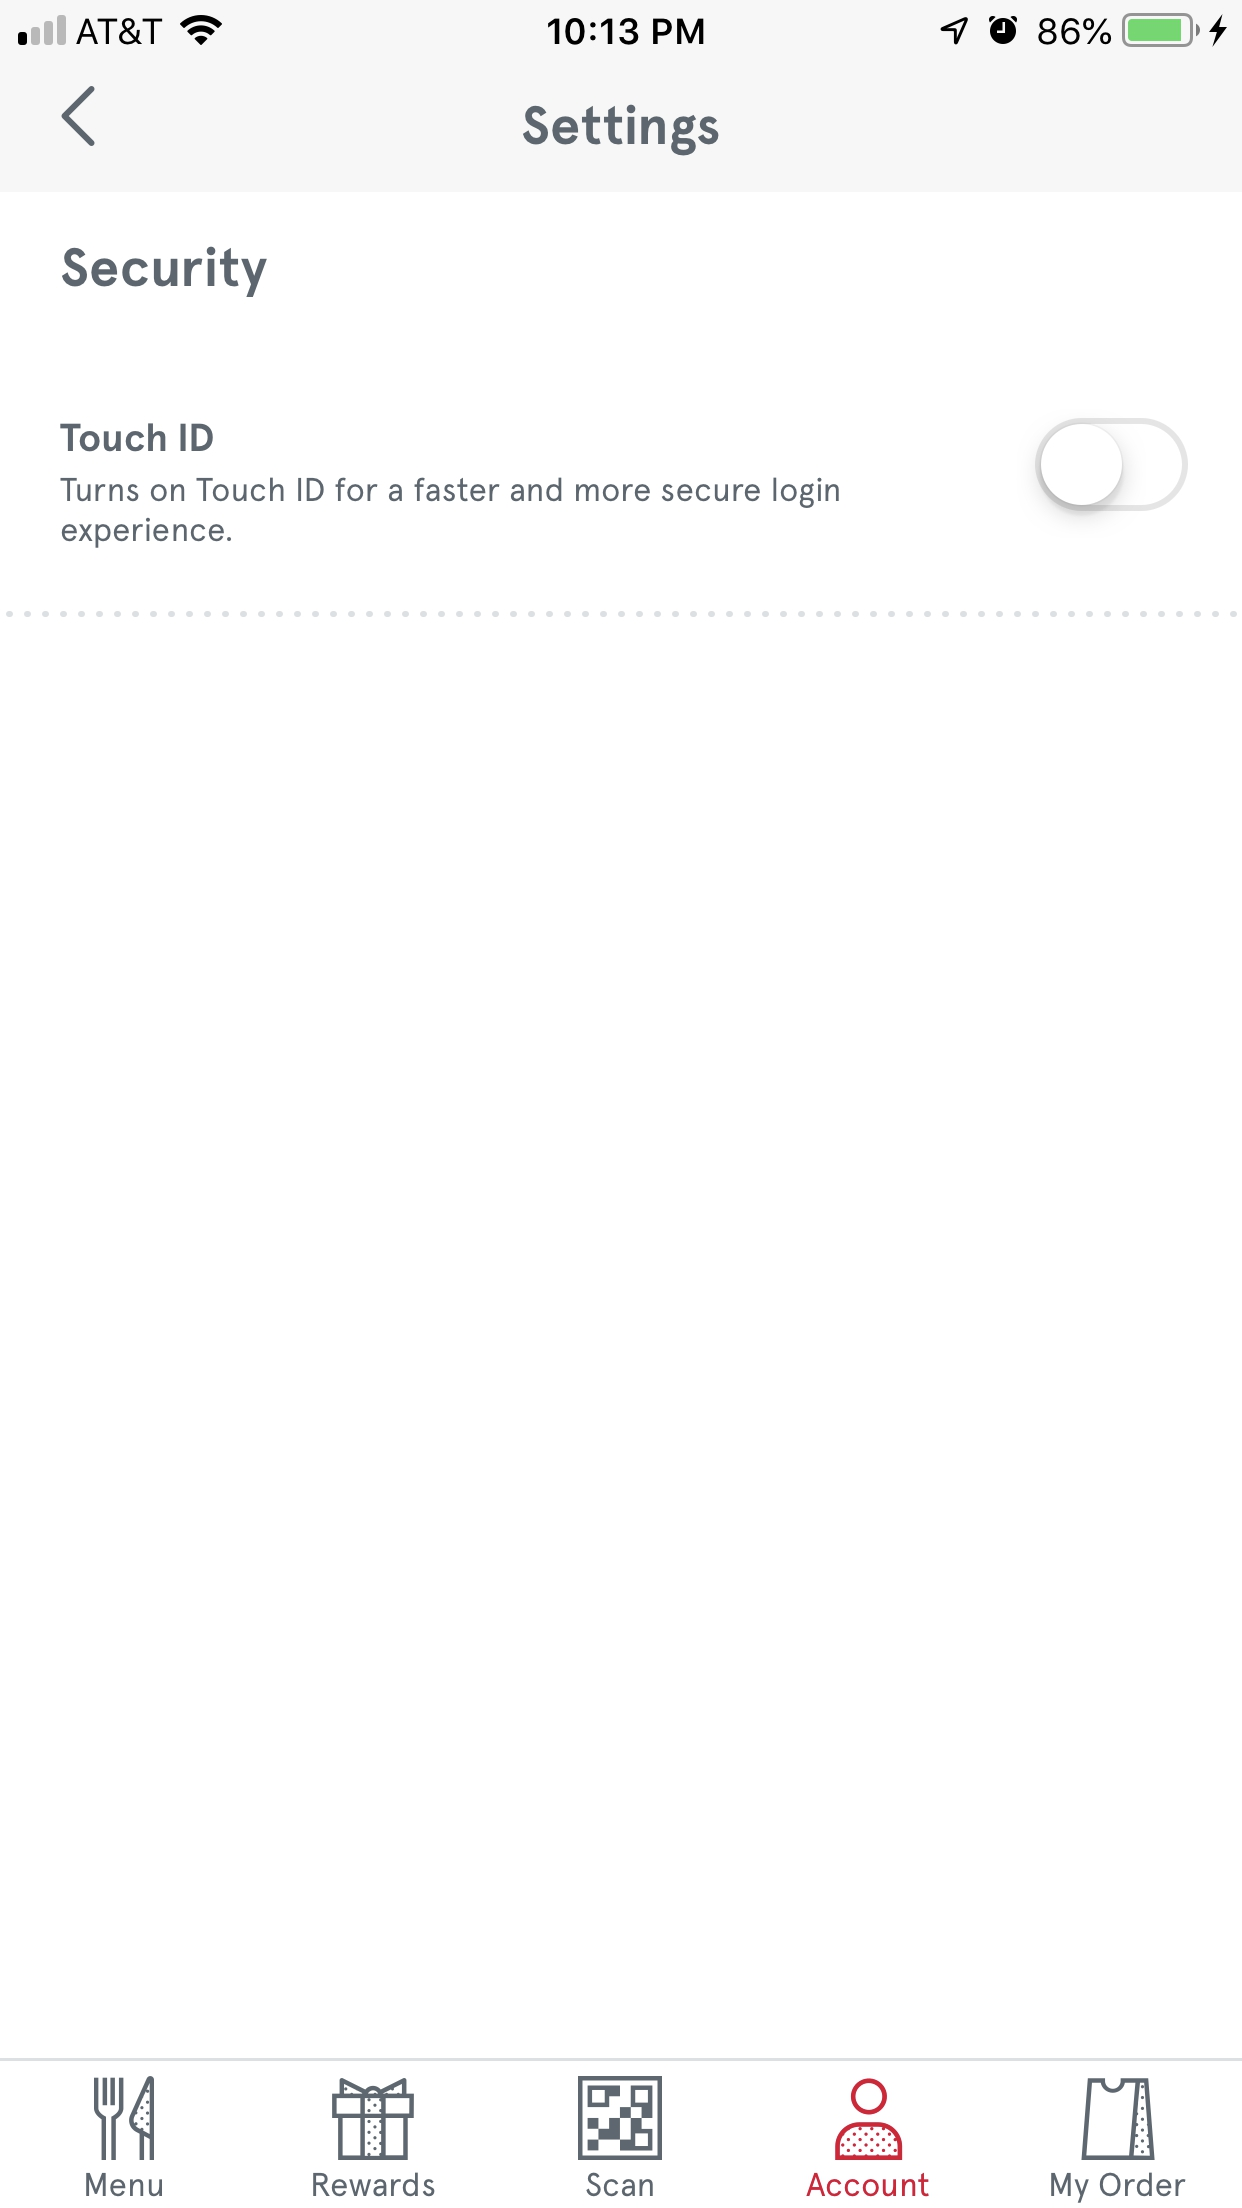Icon: (332, 2078, 416, 2161), (834, 2078, 904, 2161), (61, 86, 97, 149)
Image: (576, 2075, 663, 2161), (1081, 2078, 1156, 2161), (94, 2075, 156, 2161)
Switch: (1034, 419, 1189, 513)
Text: (59, 478, 840, 550), (62, 246, 268, 299), (523, 105, 720, 158), (61, 423, 214, 453), (1049, 2172, 1186, 2203), (805, 2172, 930, 2197), (312, 2172, 437, 2197), (86, 2172, 164, 2197), (587, 2172, 655, 2197)
UpperTaskBar: (2, 2, 1242, 49)
